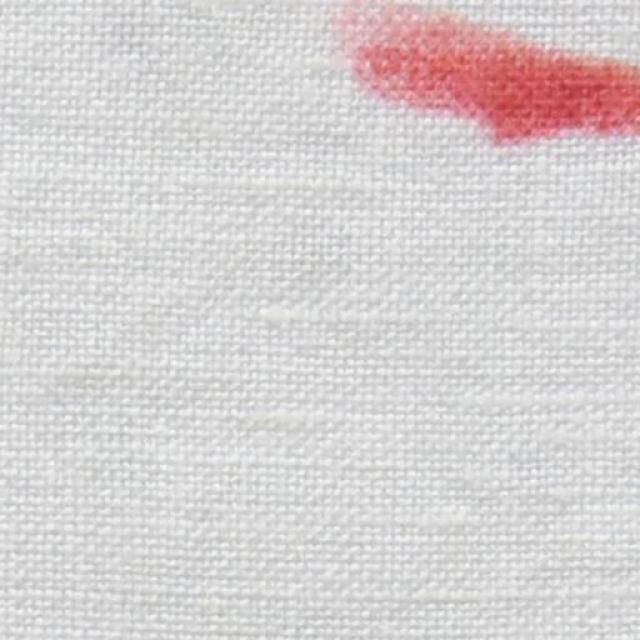Stain: (322, 4, 640, 154)
